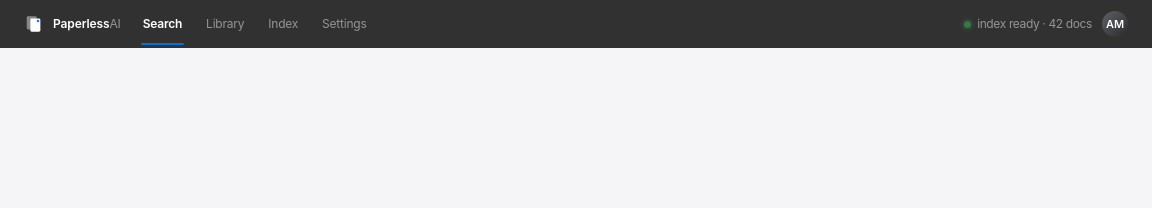
it: AppNavBar › opens the user menu and shows the display name
Click the button named "account menu" at (1115, 24), box [1102,11,1128,37]
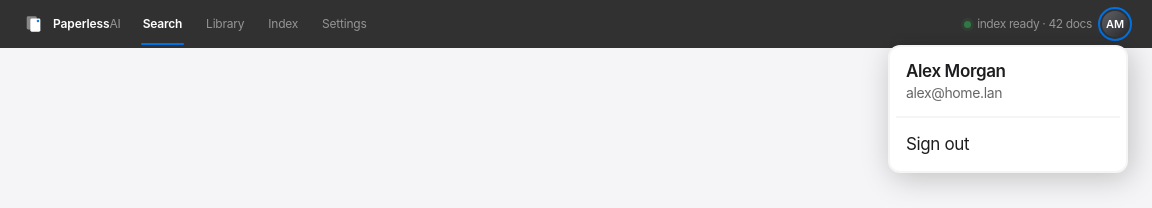
Check: the 3rd text "Alex Morgan" is shown, box [906,61,1006,81]
